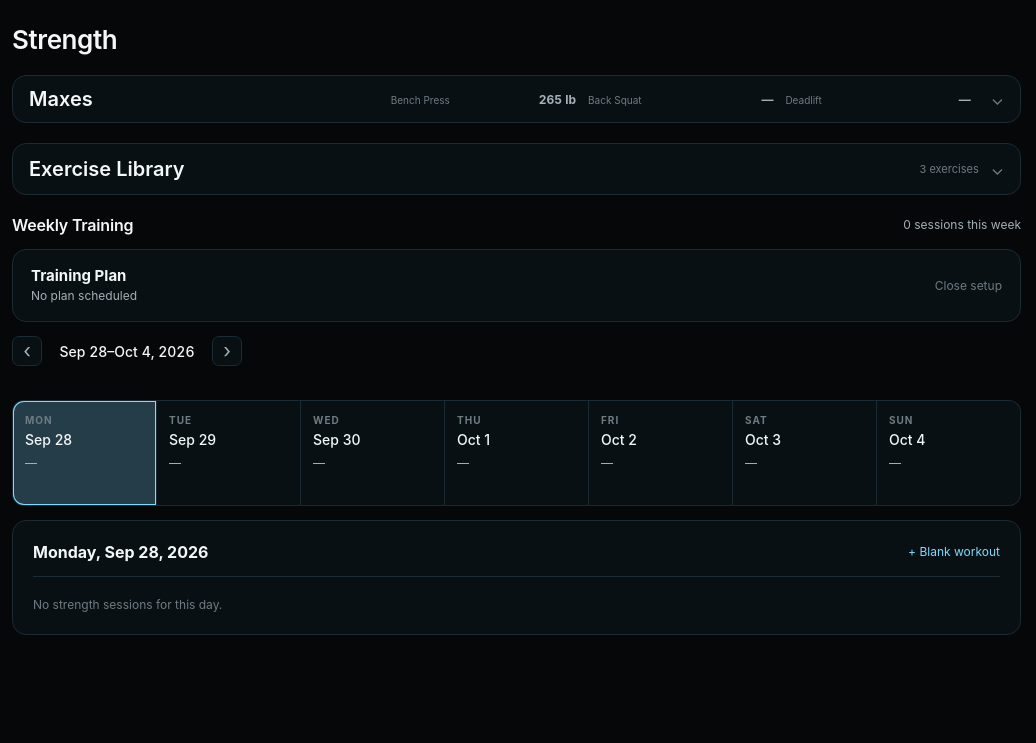
Test case: StrengthPage › cancels an inline max edit with Escape
Click the button "Maxes" at (61, 99), box [12,75,1021,123]
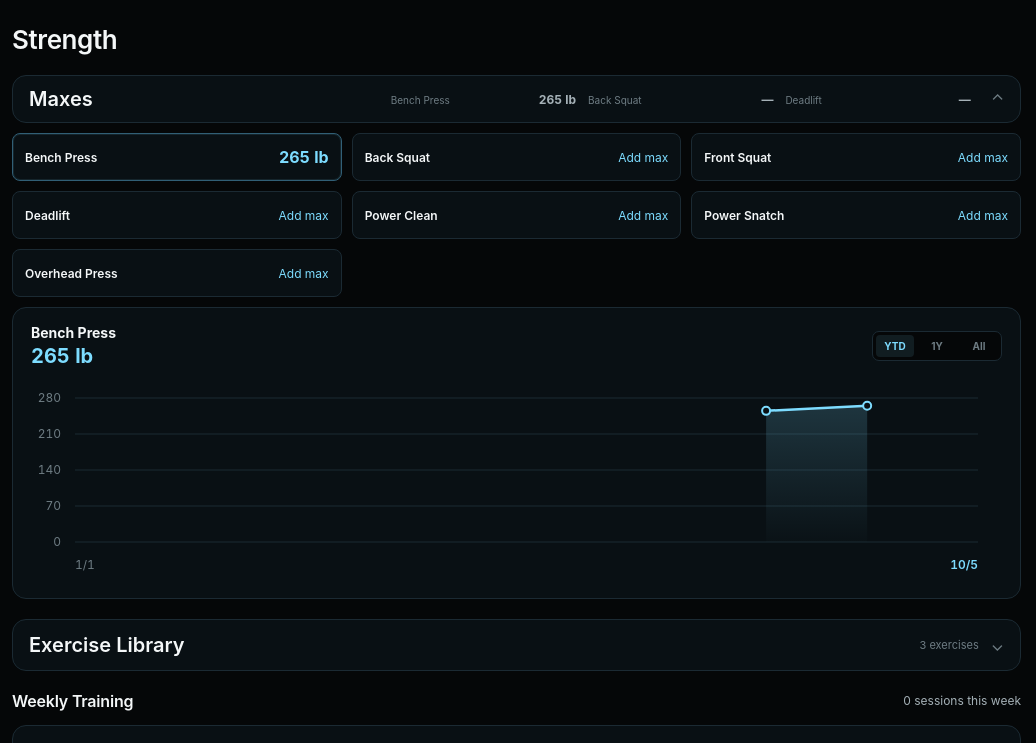
Click the button "265 lb" at (304, 157), box [279,147,329,167]
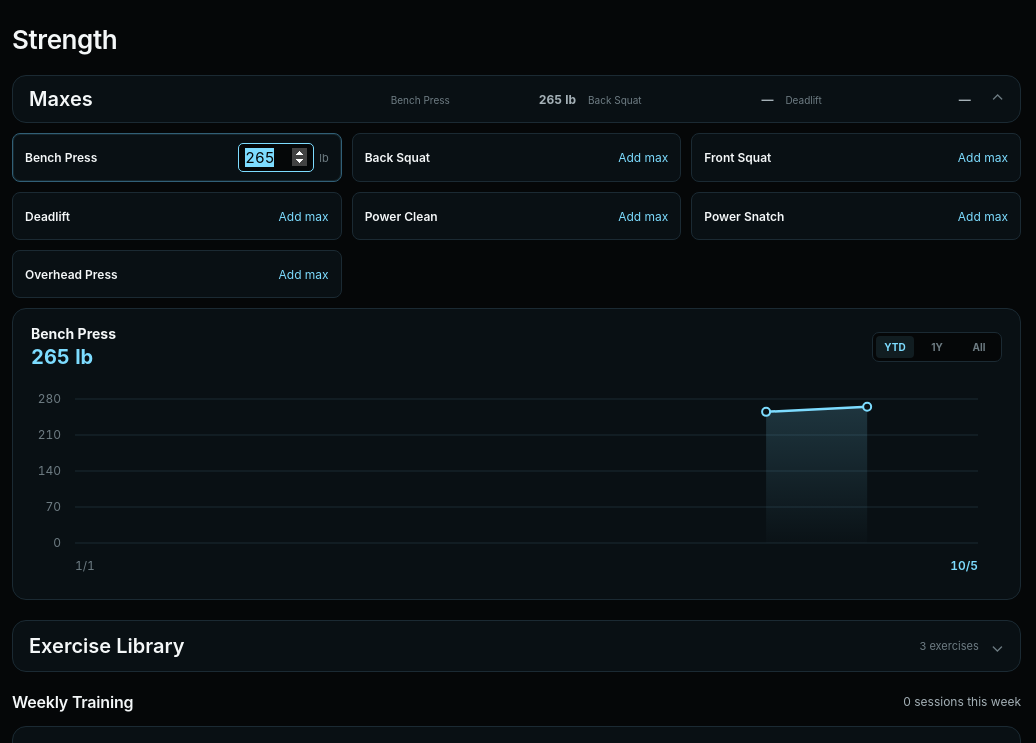
Replace the text in the number field named "Bench Press max" with "300" at (276, 158), box [238,143,314,172]
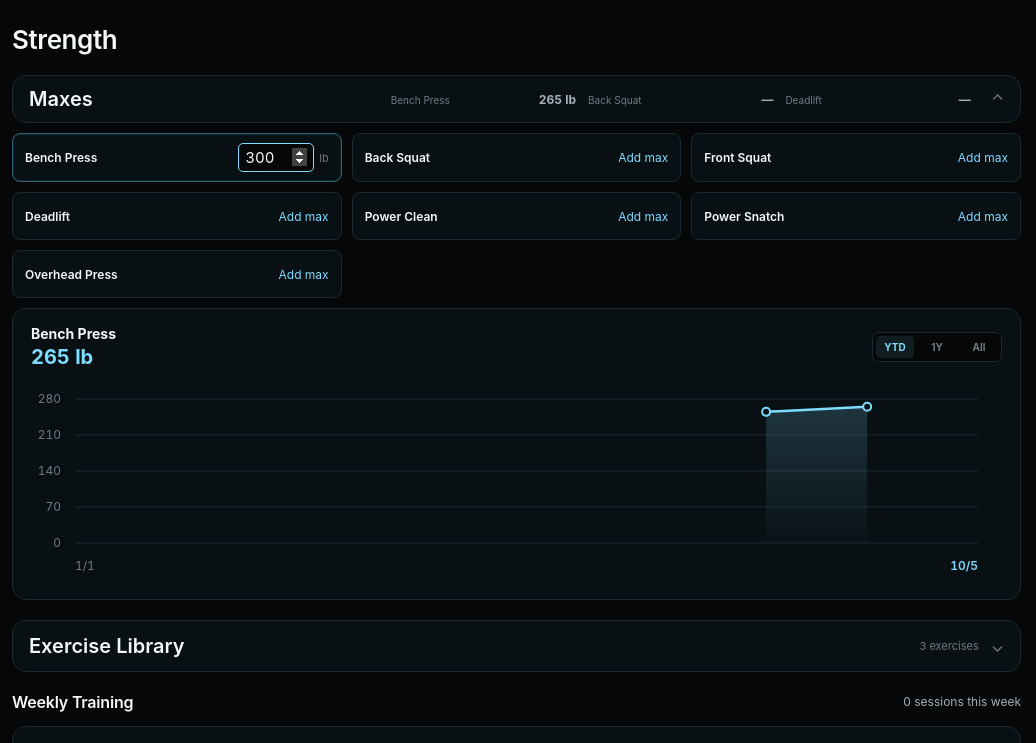
Press Escape in the number field named "Bench Press max", box [238,143,314,172]
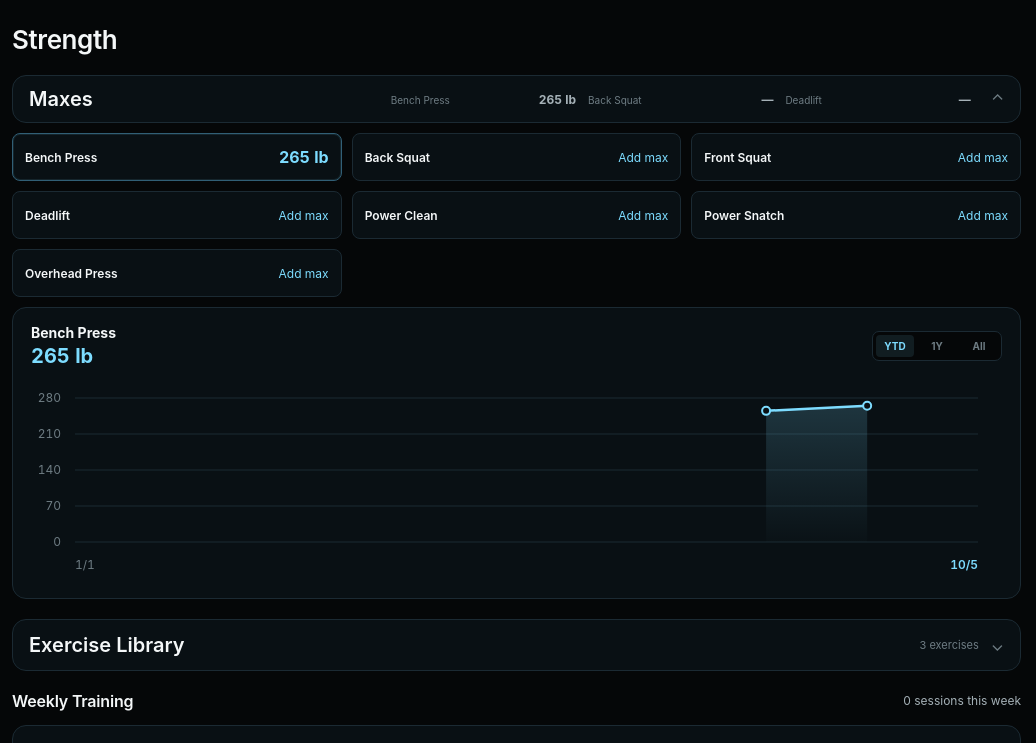
Result: the button "265 lb" is shown at [279,147,329,167]
